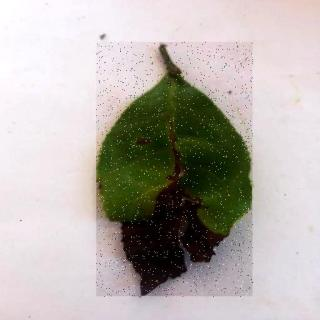Brown Blight: (98, 44, 255, 299)
